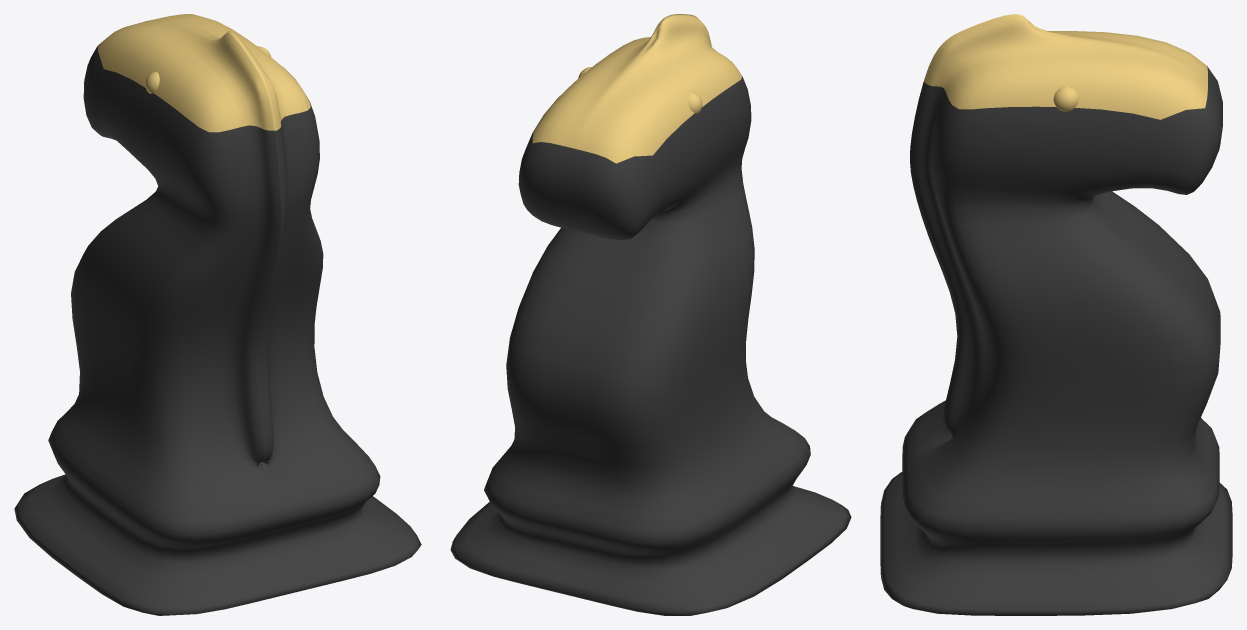
Rendered from sade_n_b.glb.
The picture shows the model from 3 angles, left to right: view 1: azimuth 30°, elevation 25°; view 2: azimuth 150°, elevation 25°; view 3: azimuth 270°, elevation 25°; orthographic projection. The views are drawn at different scales.
Parts seen in each view (by area): view 1: x; view 2: x; view 3: x.
Part boxes in pixels (left/top/right/bottom): x: left=14, top=14, right=421, bottom=615; x: left=450, top=14, right=851, bottom=615; x: left=880, top=14, right=1232, bottom=615.
Bounding box in the file's own units: 0.5459 × 0.9 × 0.5391.
